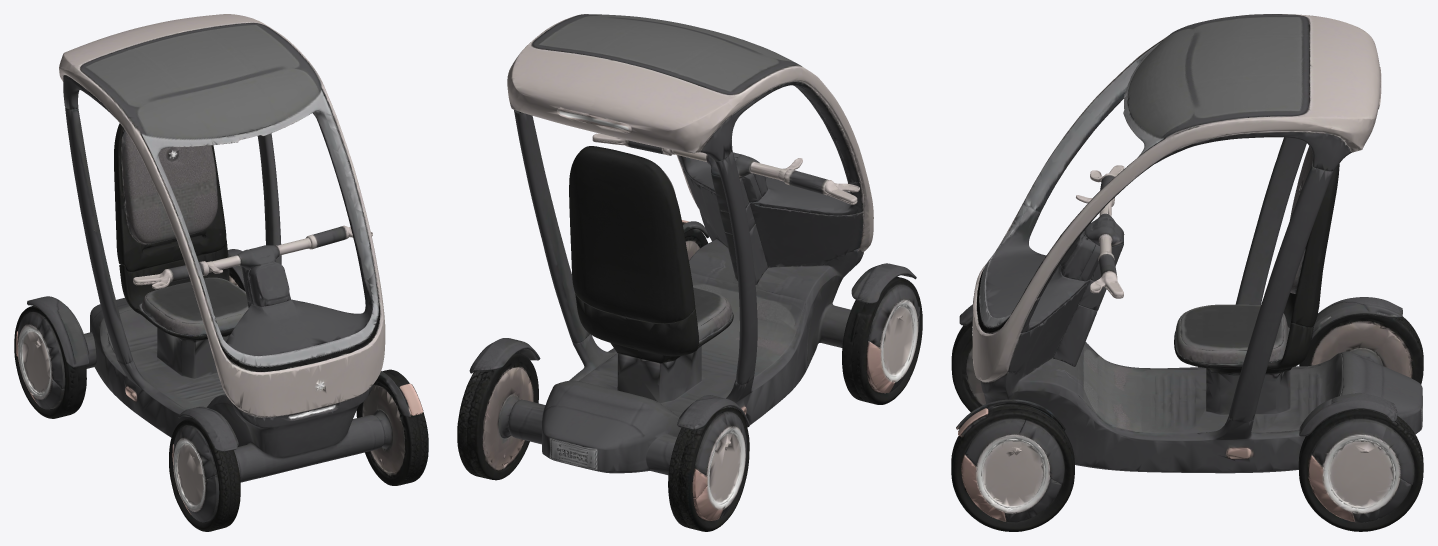
File: halo.glb
The picture shows the model from 3 angles, left to right: view 1: azimuth 30°, elevation 25°; view 2: azimuth 150°, elevation 25°; view 3: azimuth 270°, elevation 25°; orthographic projection. The views are drawn at different scales.
Parts seen in each view (by area): view 1: tripo_node_374d02a0-fb67-432f-846c-fa0a3e9ac054; view 2: tripo_node_374d02a0-fb67-432f-846c-fa0a3e9ac054; view 3: tripo_node_374d02a0-fb67-432f-846c-fa0a3e9ac054.
Boxes of the visible parts, x1,y1,x2,y2 form: tripo_node_374d02a0-fb67-432f-846c-fa0a3e9ac054: (14,14,428,531); tripo_node_374d02a0-fb67-432f-846c-fa0a3e9ac054: (457,14,922,531); tripo_node_374d02a0-fb67-432f-846c-fa0a3e9ac054: (951,14,1423,531).
Size of the model in its own units: 0.6323 by 0.9606 by 0.98.
Materials: 1 (1 with a texture image).
